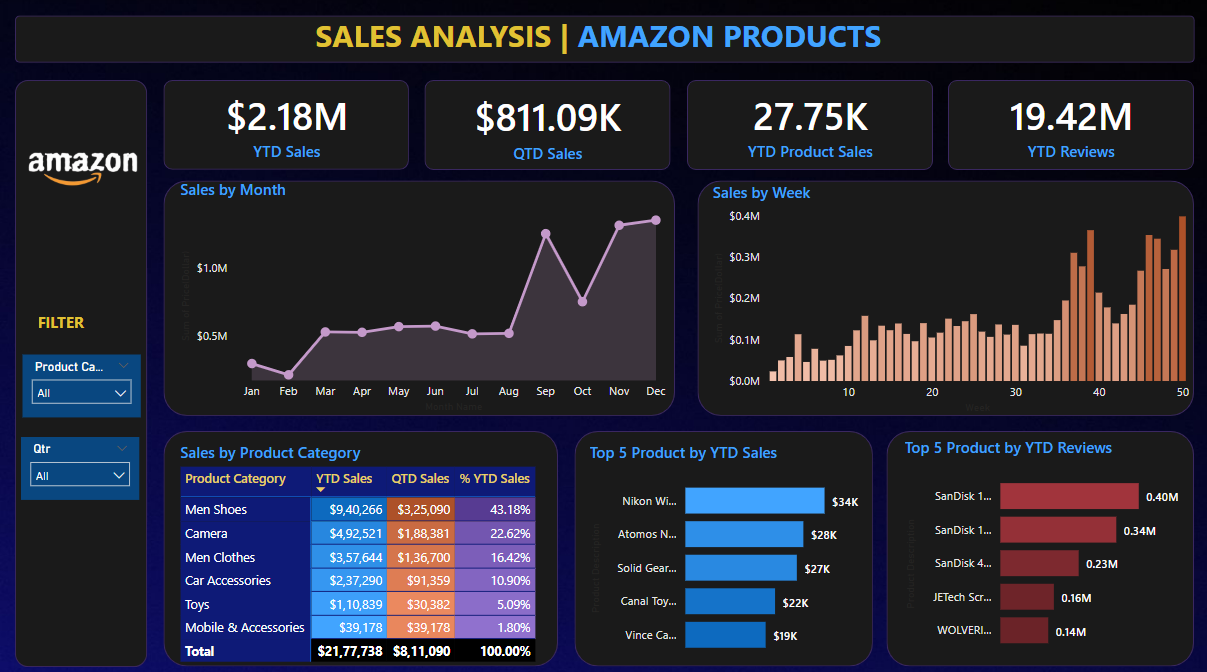

This screenshot's page, from the dashboard's own definition file:
{"tool":"powerbi","page":{"name":"Page 1","canvas":[1280,720],"ordinal":0},"visuals":[{"type":"shape","box":[15.9,17.5,1250,50],"z":0},{"type":"textbox","box":[329,11.1,624.6,62],"z":1000},{"type":"shape","box":[15.9,85.8,140,622],"z":2000},{"type":"shape","box":[173.2,85.8,260,95],"z":3000,"group":"g1"},{"type":"shape","box":[173.2,192.3,542,249.5],"z":3000},{"type":"card","fields":{"Values":["Amazon_Data.YTD Sales"]},"box":[173.2,85.8,260.7,93.8],"z":4000,"group":"g1"},{"type":"group","id":"g1","title":"Group 1","box":[173.2,85.8,1091.9,95.4],"z":4000},{"type":"shape","box":[449.8,85.8,260.7,95.4],"z":5000,"group":"g1"},{"type":"areaChart","title":"Sales by Month","fields":{"Category":["Date Table.Month Name"],"Y":["Sum(Amazon_Data.Price(Dollar))"]},"box":[186,190.7,529.3,251.1],"z":5000},{"type":"shape","box":[727.2,85.8,260.7,95.4],"z":6000,"group":"g1"},{"type":"shape","box":[739.1,192.3,526.1,249.5],"z":6000},{"type":"shape","box":[1004.5,85.8,260.7,95.4],"z":7000,"group":"g1"},{"type":"columnChart","title":"Sales by Week","fields":{"Y":["Sum(Amazon_Data.Price(Dollar))"],"Category":["Date Table.Week"]},"box":[750.2,193.9,515,249.5],"z":7000},{"type":"card","fields":{"Values":["Amazon_Data.QTD Sales"]},"box":[449.8,87.4,260.7,93.8],"z":8000,"group":"g1"},{"type":"shape","box":[173.2,457.7,418,249.5],"z":8000},{"type":"card","fields":{"Values":["Amazon_Data.YTD Product Sales"]},"box":[727.9,85.8,260.7,93.8],"z":9000,"group":"g1"},{"type":"shape","box":[608.7,457.7,316.3,249.5],"z":9000},{"type":"card","fields":{"Values":["Amazon_Data.YTD Reviews"]},"box":[1004.5,85.8,260.7,93.8],"z":10000,"group":"g1"},{"type":"shape","box":[939.3,457.7,325.8,249.5],"z":10000},{"type":"pivotTable","title":"Sales by Product Category","fields":{"Rows":["Amazon_Data.Product Category"],"Values":["Amazon_Data.YTD Sales1","Amazon_Data.QTD Sales","Amazon_Data.YTD Sales"]},"box":[186,468.9,394.2,238.4],"z":11000},{"type":"clusteredBarChart","title":"Top 5 Product by YTD Sales","fields":{"Category":["Amazon_Data.Product Description"],"Y":["Amazon_Data.YTD Sales"]},"box":[619.9,468.9,305.2,238.4],"z":12000},{"type":"clusteredBarChart","title":"Top 5 Product by YTD Reviews","fields":{"Category":["Amazon_Data.Product Description"],"Y":["Amazon_Data.YTD Reviews"]},"box":[953.6,464.1,305.2,238.4],"z":13000},{"type":"slicer","fields":{"Values":["Amazon_Data.Product Category"]},"box":[23.8,376.7,125.6,66.8],"z":14000},{"type":"slicer","fields":{"Values":["Date Table.Qtr"]},"box":[22.3,464.1,125.6,66.8],"z":15000},{"type":"image","box":[19.1,114.4,136.7,128.7],"z":16000},{"type":"textbox","box":[35,325.8,71.5,35],"z":17000}]}

Visuals, with their boxes in screenshot pixels (x1, y1, x2, y2), scaled from the page's 1280x720 canvas onto the 1207x672 screenshot:
shape: [15, 16, 1194, 63]
textbox: [310, 10, 899, 68]
shape: [15, 80, 147, 661]
shape: [163, 80, 408, 169]
shape: [163, 179, 674, 412]
card - Amazon_Data.YTD Sales: [163, 80, 409, 168]
"Group 1" group: [163, 80, 1193, 169]
shape: [424, 80, 670, 169]
"Sales by Month" areaChart: [175, 178, 675, 412]
shape: [686, 80, 932, 169]
shape: [697, 179, 1193, 412]
shape: [947, 80, 1193, 169]
"Sales by Week" columnChart: [707, 181, 1193, 414]
card - Amazon_Data.QTD Sales: [424, 82, 670, 169]
shape: [163, 427, 557, 660]
card - Amazon_Data.YTD Product Sales: [686, 80, 932, 168]
shape: [574, 427, 872, 660]
card - Amazon_Data.YTD Reviews: [947, 80, 1193, 168]
shape: [886, 427, 1193, 660]
"Sales by Product Category" pivotTable: [175, 438, 547, 660]
"Top 5 Product by YTD Sales" clusteredBarChart: [585, 438, 872, 660]
"Top 5 Product by YTD Reviews" clusteredBarChart: [899, 433, 1187, 656]
slicer - Amazon_Data.Product Category: [22, 352, 141, 414]
slicer - Date Table.Qtr: [21, 433, 139, 496]
image: [18, 107, 147, 227]
textbox: [33, 304, 100, 337]
